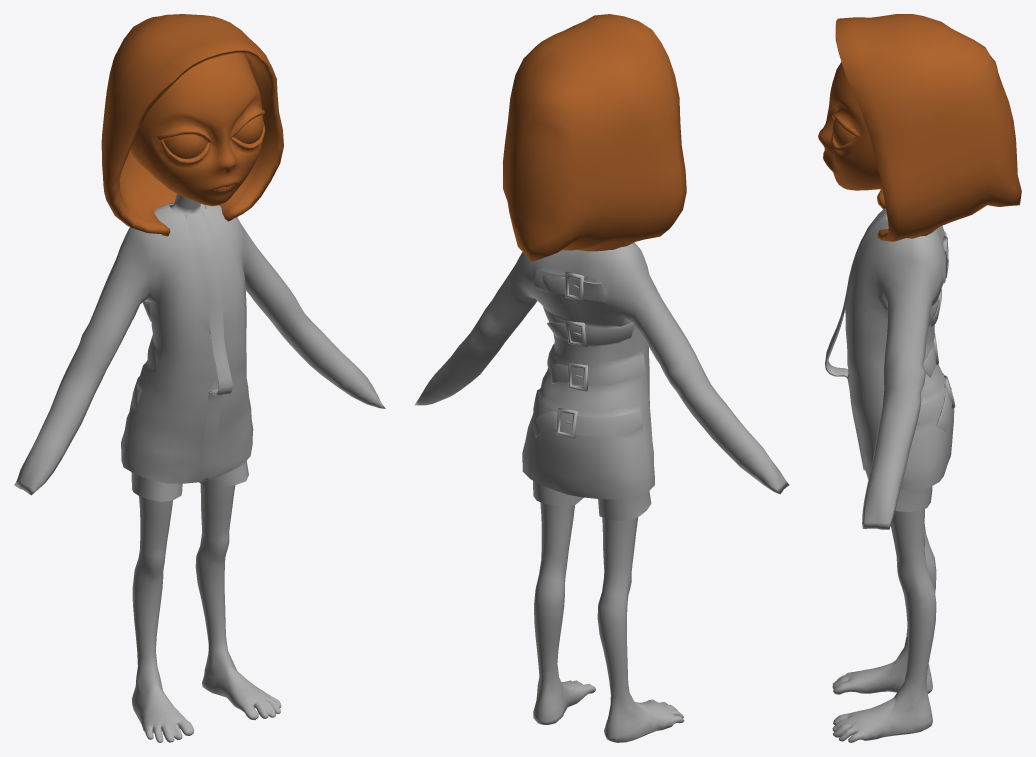
Rendered from GenericKid.fbx.
3 renders of one model, left to right at view 1: azimuth 30°, elevation 25°; view 2: azimuth 150°, elevation 25°; view 3: azimuth 270°, elevation 25°, orthographic.
Parts seen in each view (by area): view 1: GenericKid; view 2: GenericKid; view 3: GenericKid.
Part boxes in pixels (x1,y1,x2,y2): GenericKid: (14, 14, 385, 742); GenericKid: (415, 14, 789, 742); GenericKid: (818, 14, 1021, 742).
Bounding box in the file's own units: 67.12 × 121 × 32.43.
